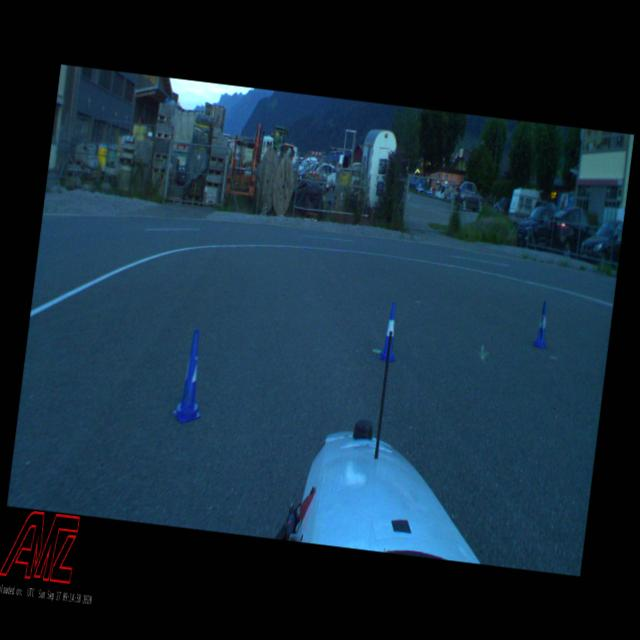blue_cone: (172, 328, 208, 419), (378, 301, 400, 360), (532, 300, 550, 348)
